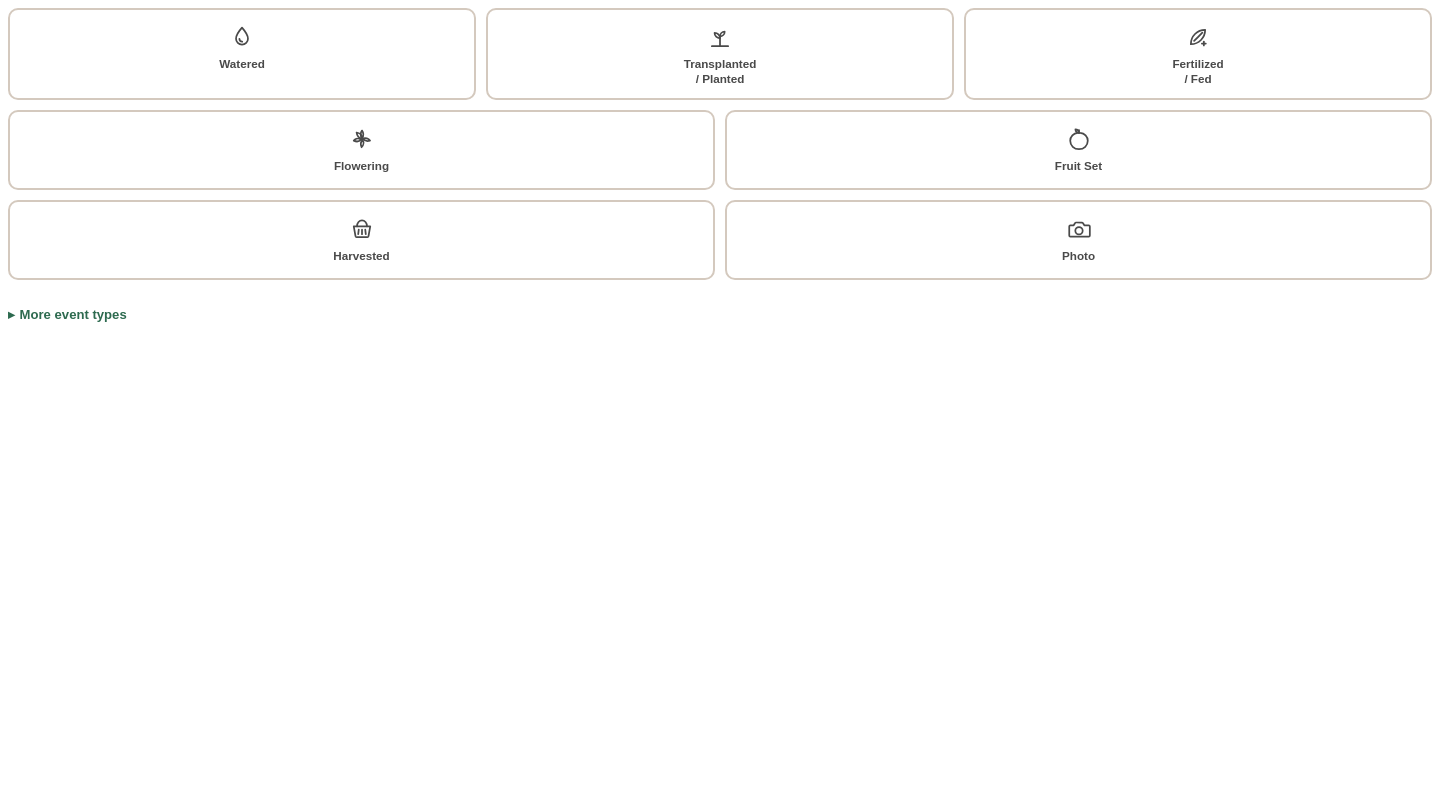
EventTypePicker › the More toggle reveals secondary-group types (hidden by default)
Expected: the text "Brought inside" is not shown
Click the text "More event types" at (73, 314), box [20, 307, 127, 322]
(page scrolled)
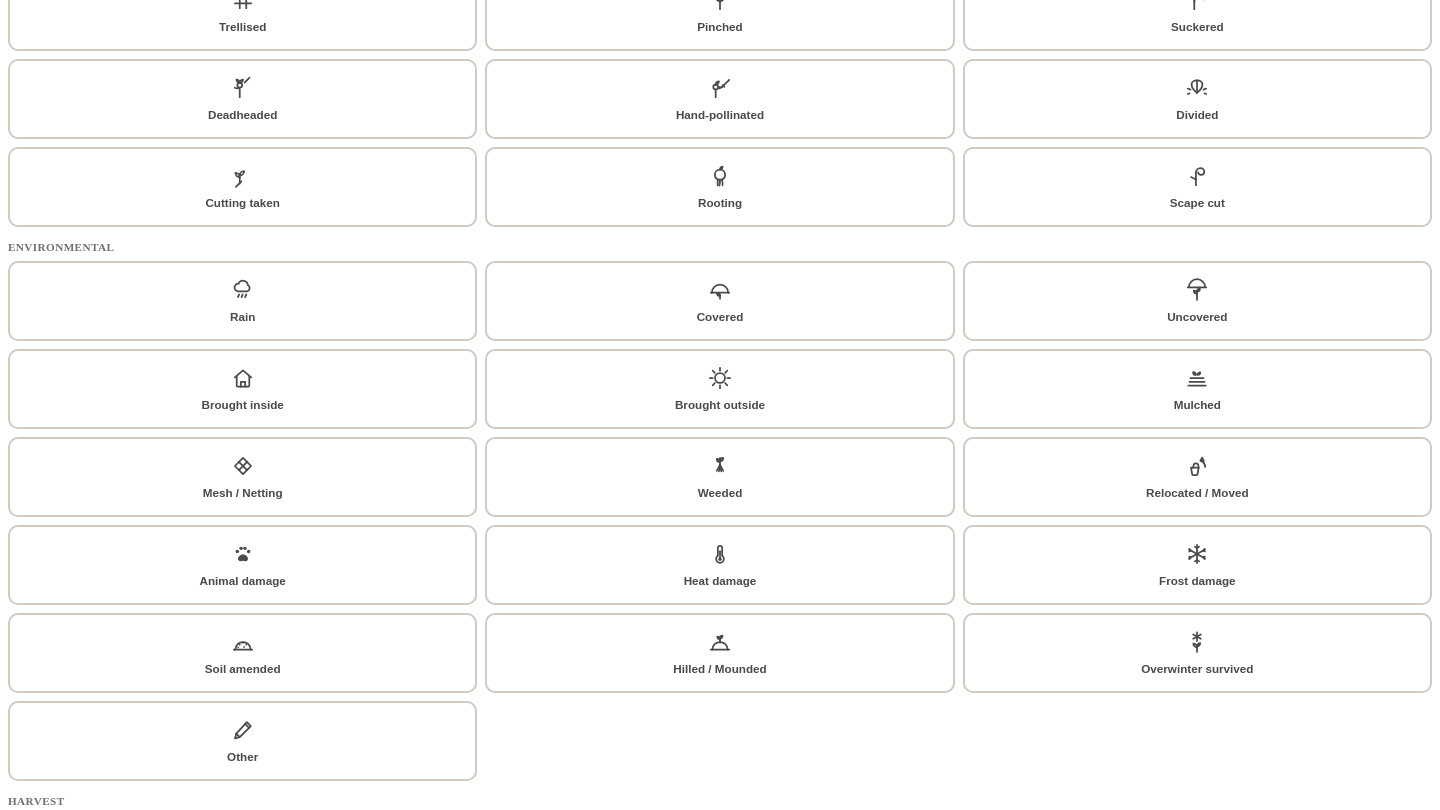
Now the text "Brought inside" is shown, box [202, 398, 284, 413]
